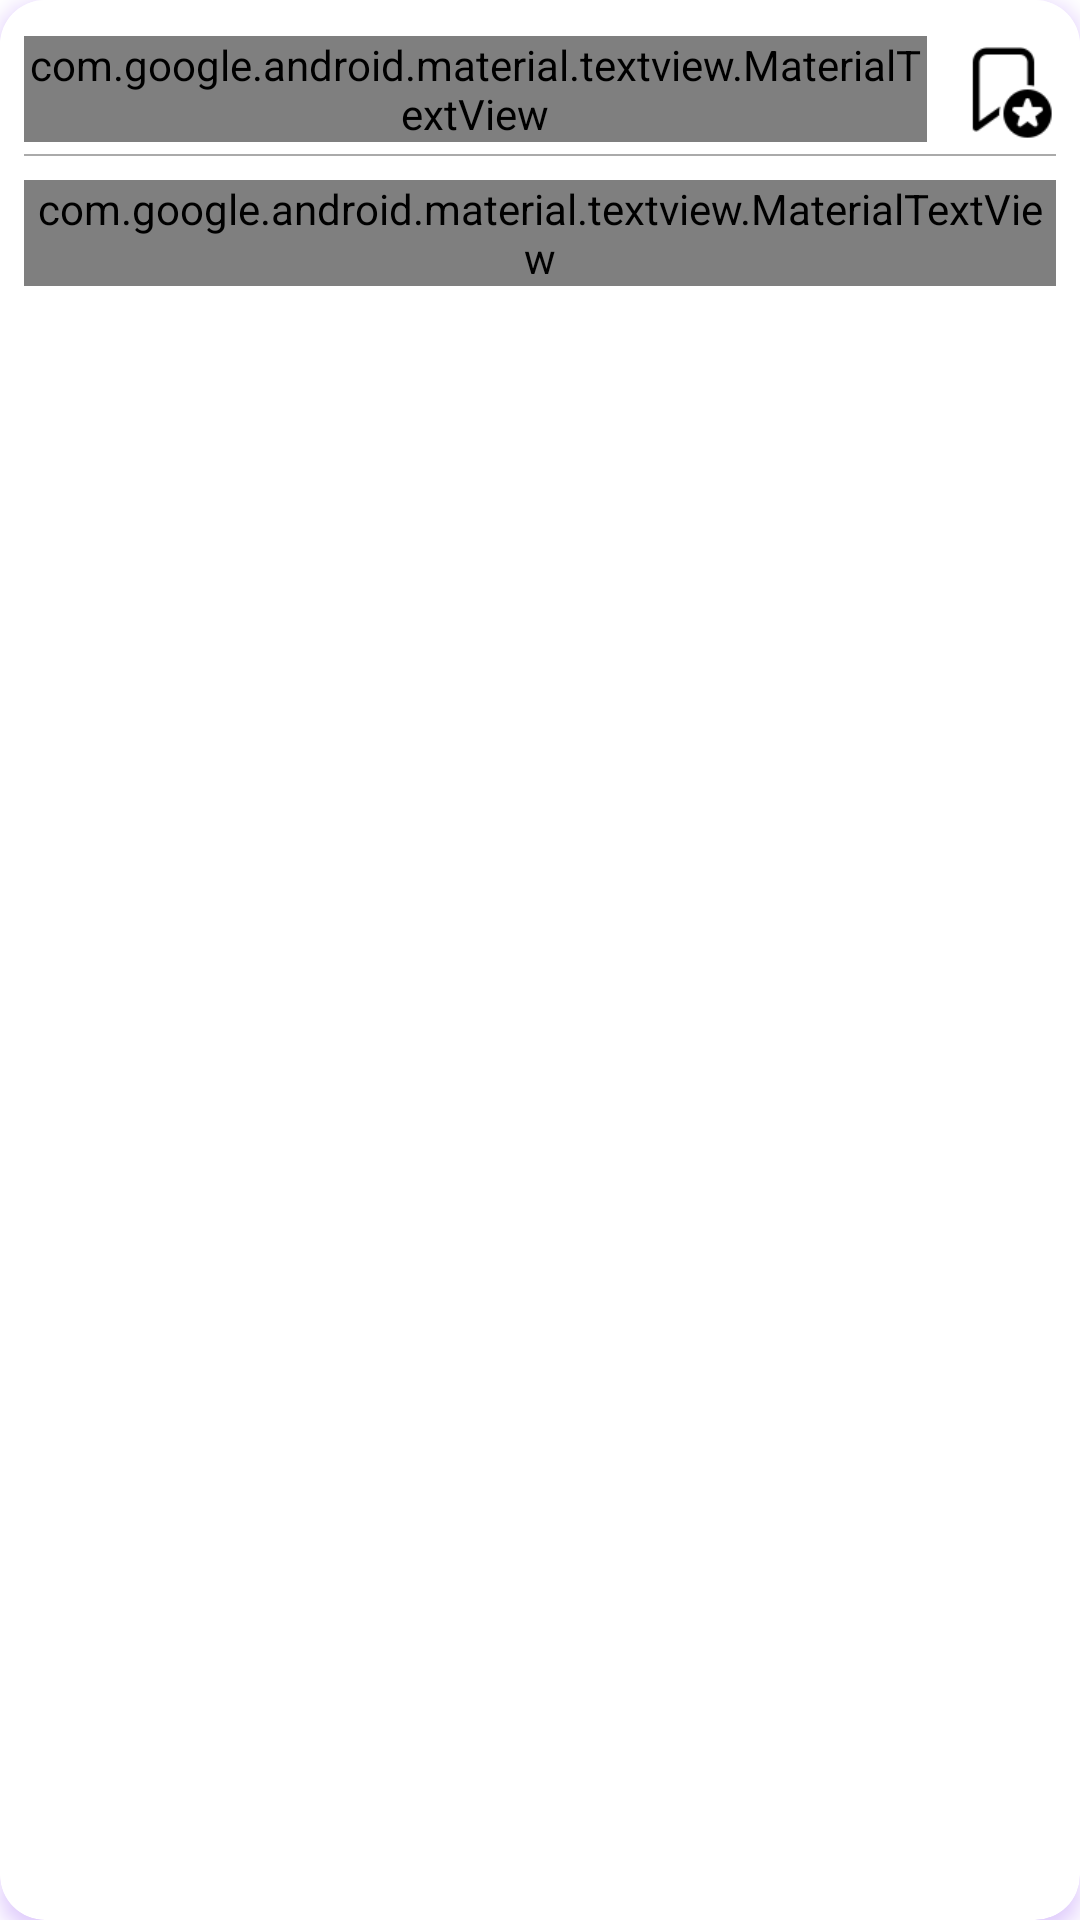

Icons on this 1080w x 1920h Android screen, each with its box as (x1, y1, x2, y2):
unfavorite: (972, 47, 1052, 138)
